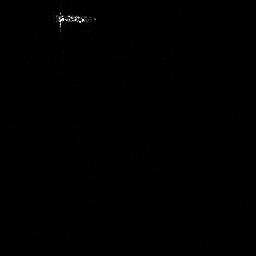ship: (53, 9, 98, 31)
